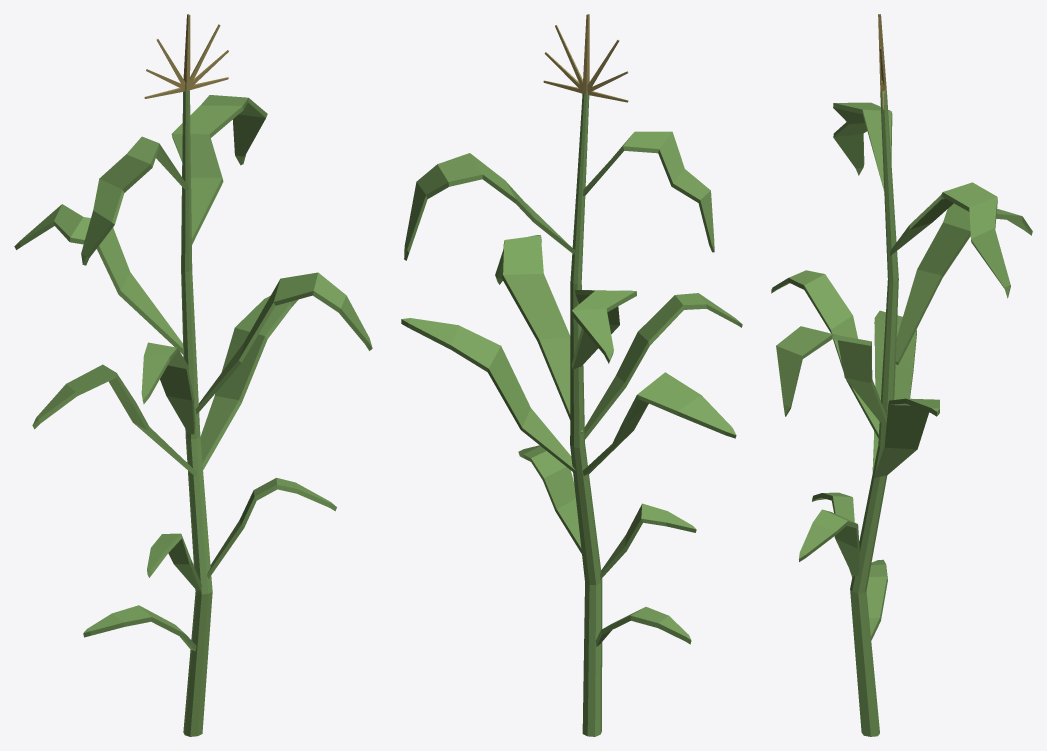
Rendered from corn_harvested.gltf.
3 views of the same model, side by side, from view 1: azimuth 30°, elevation 25°; view 2: azimuth 150°, elevation 25°; view 3: azimuth 270°, elevation 25° (orthographic).
Parts seen in each view (by area): view 1: corn_harvested; view 2: corn_harvested; view 3: corn_harvested.
Part boxes in pixels (left/top/right/bottom): corn_harvested: left=14, top=14, right=372, bottom=736; corn_harvested: left=401, top=14, right=742, bottom=736; corn_harvested: left=771, top=14, right=1032, bottom=736.
Size of the model in its own units: 0.8873 by 1.97 by 0.649.
1 material, 1 textured.
